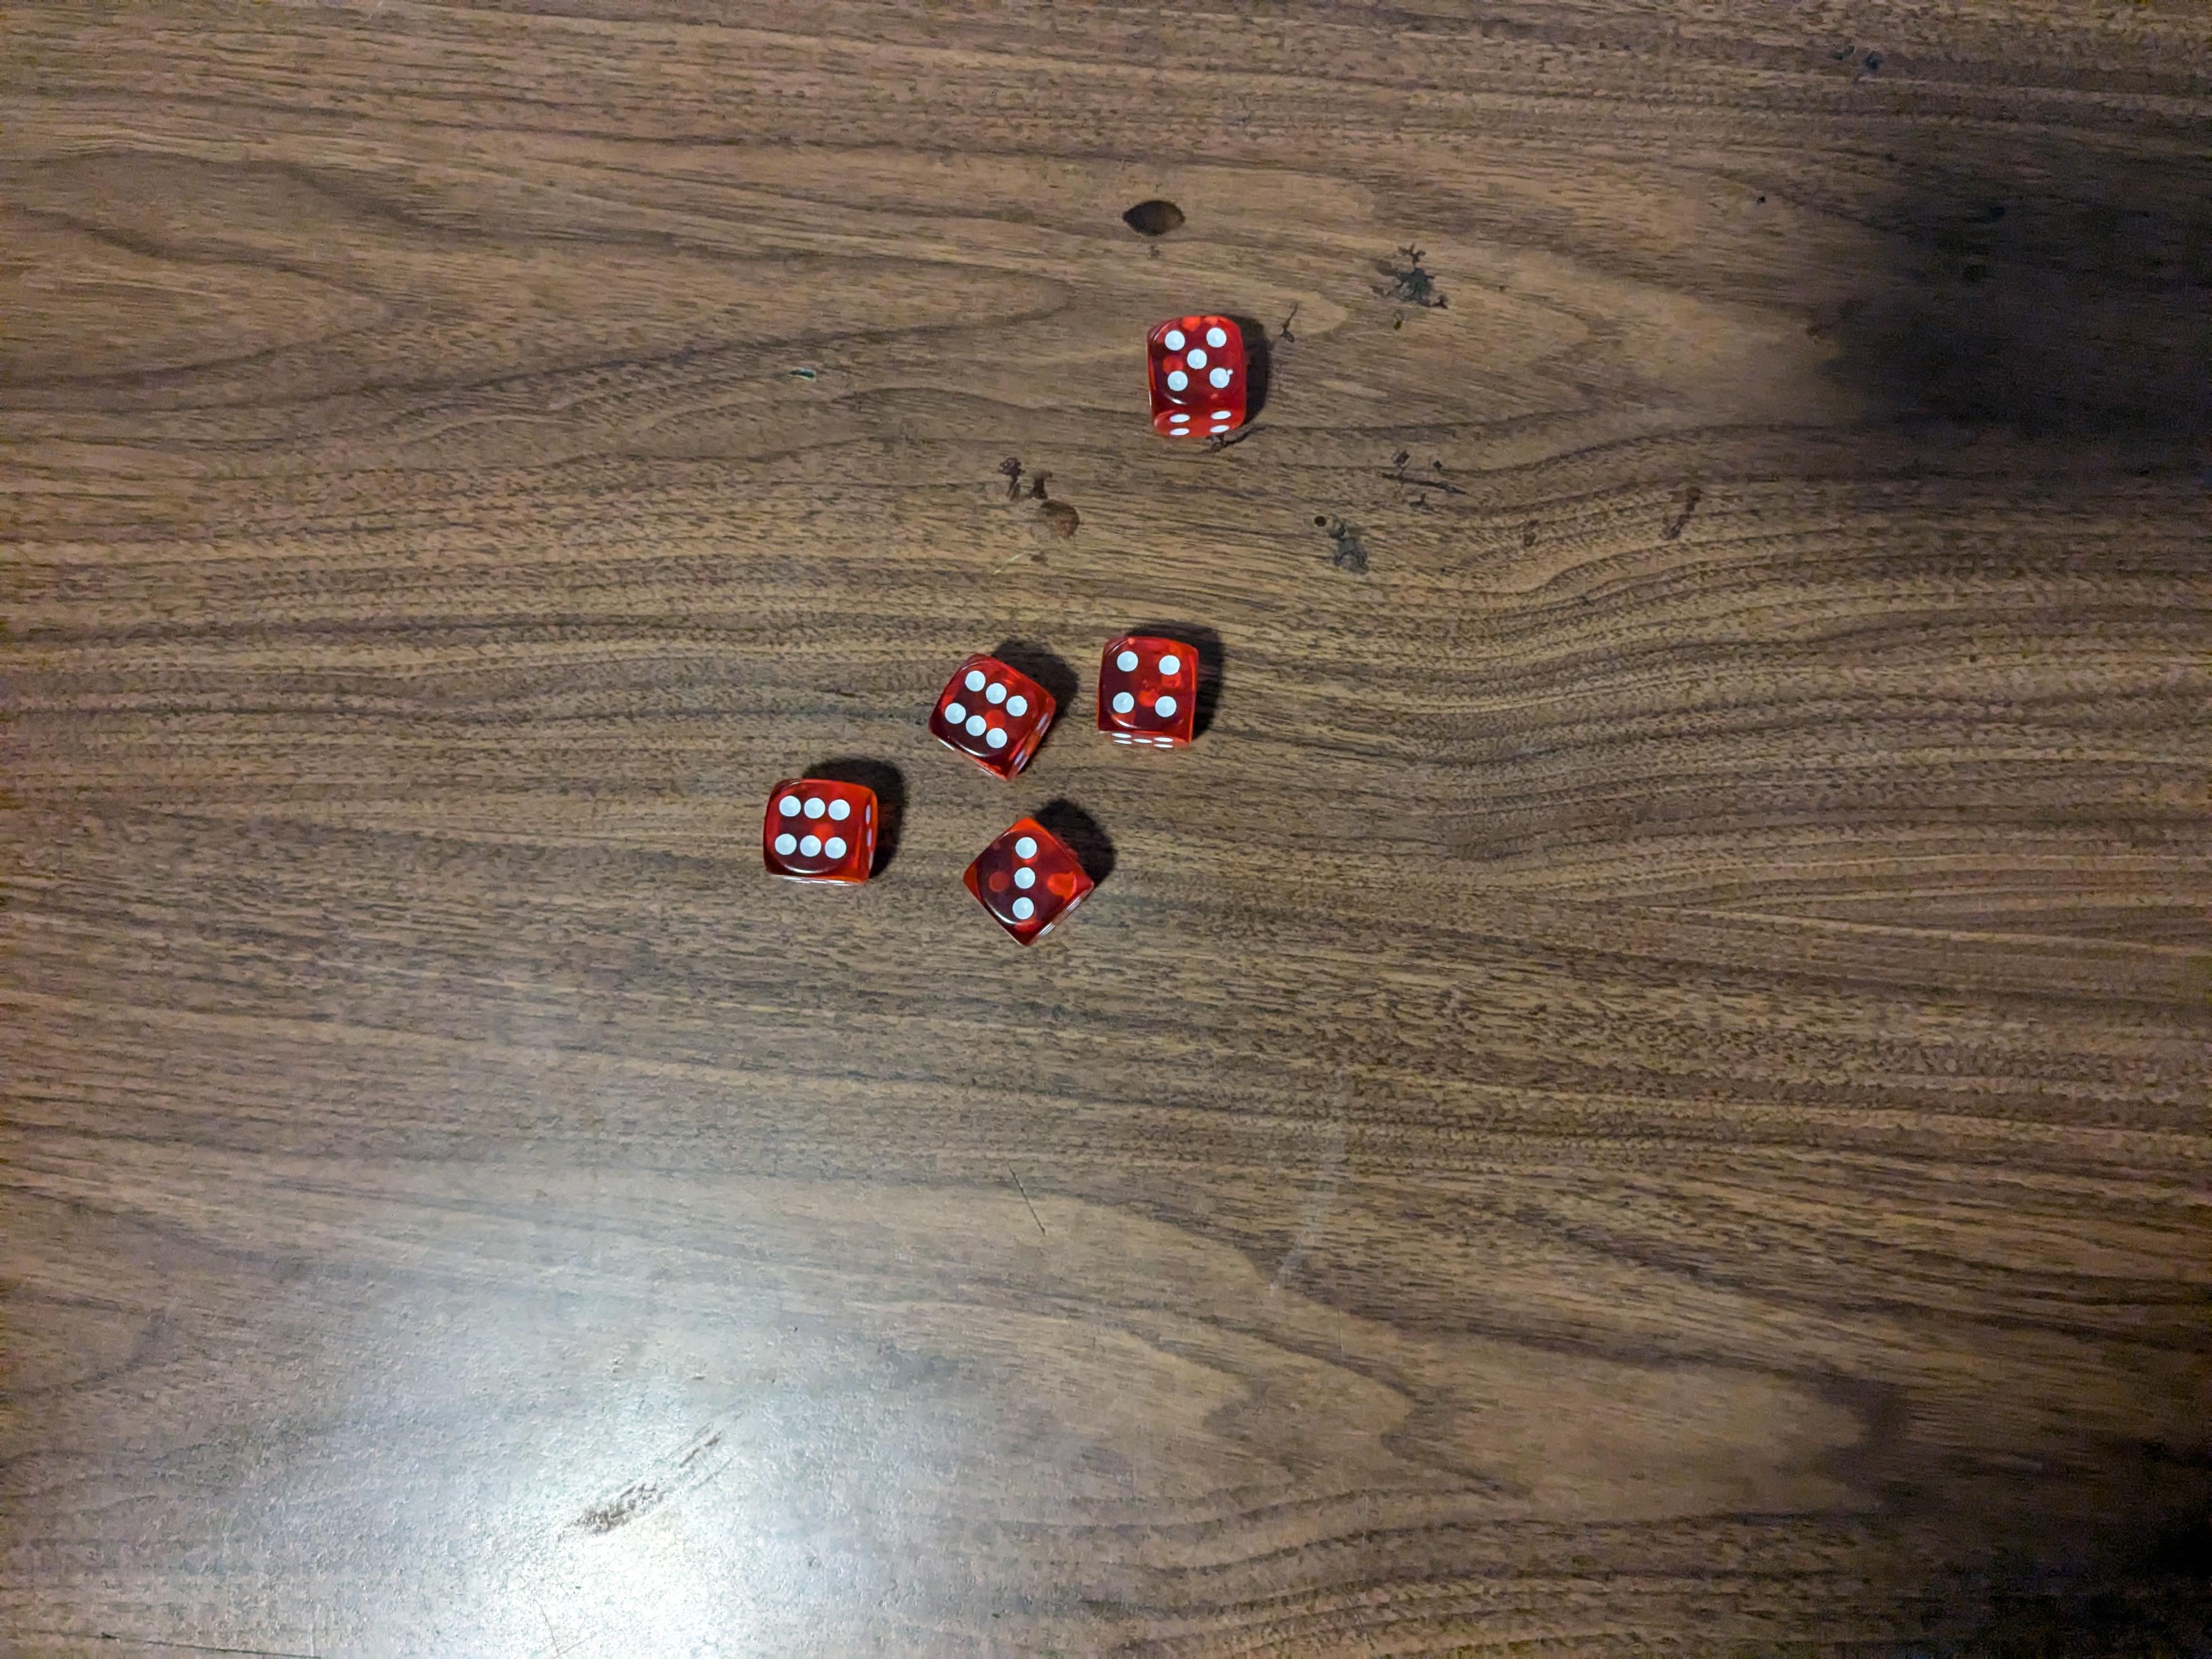five: (1144, 303, 1258, 437)
four: (1092, 634, 1200, 755)
six: (928, 653, 1059, 781), (756, 774, 881, 884)
three: (967, 812, 1101, 955)
